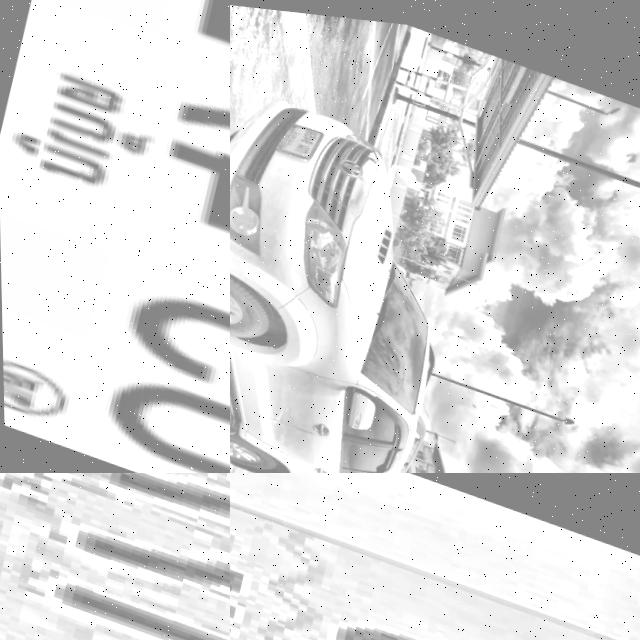license-plate: (0, 0, 230, 473), (230, 473, 640, 640), (0, 473, 230, 640), (267, 108, 328, 163)
